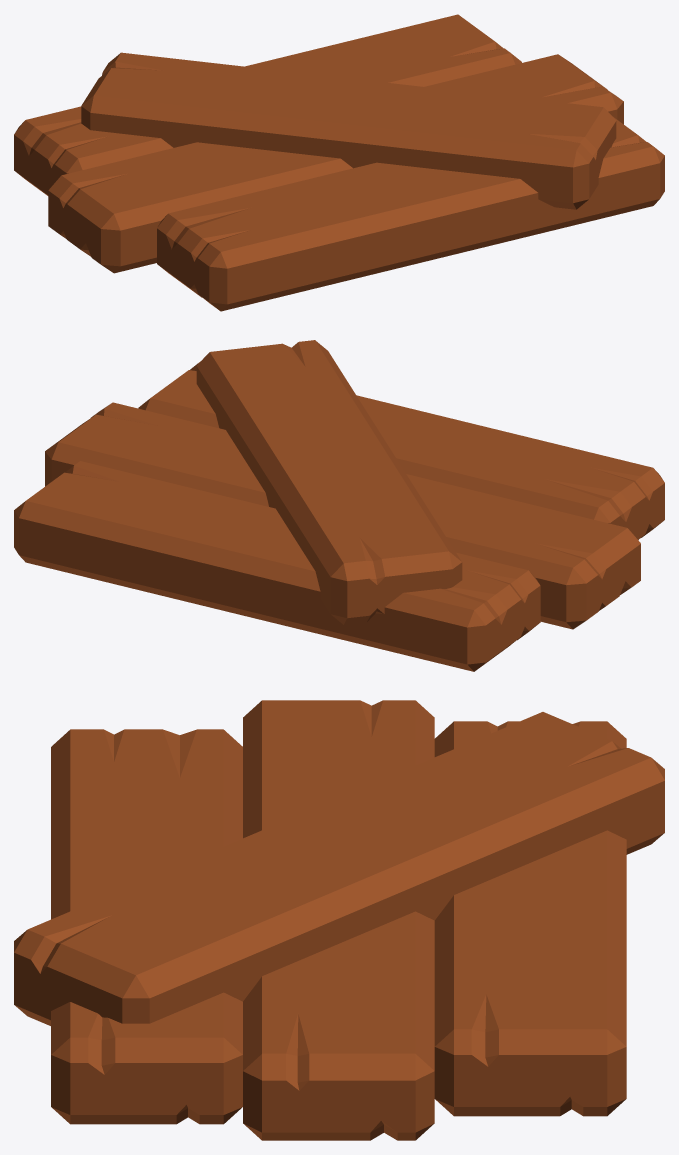
The model's file is m_dec_dung_woodPlanks.fbx.
3 views of the same model, one above another, from view 1: azimuth 30°, elevation 25°; view 2: azimuth 150°, elevation 25°; view 3: azimuth 270°, elevation 25° (orthographic). The views are drawn at different scales.
Parts seen in each view (by area): view 1: m_dec_dung_woodPlanks; view 2: m_dec_dung_woodPlanks; view 3: m_dec_dung_woodPlanks.
Part boxes in pixels (box(x1,y1,x2,y2)): m_dec_dung_woodPlanks: box(14, 14, 664, 311); m_dec_dung_woodPlanks: box(14, 340, 664, 671); m_dec_dung_woodPlanks: box(14, 700, 664, 1140).
Size of the model in its own units: 4.59 by 0.7458 by 3.39.
